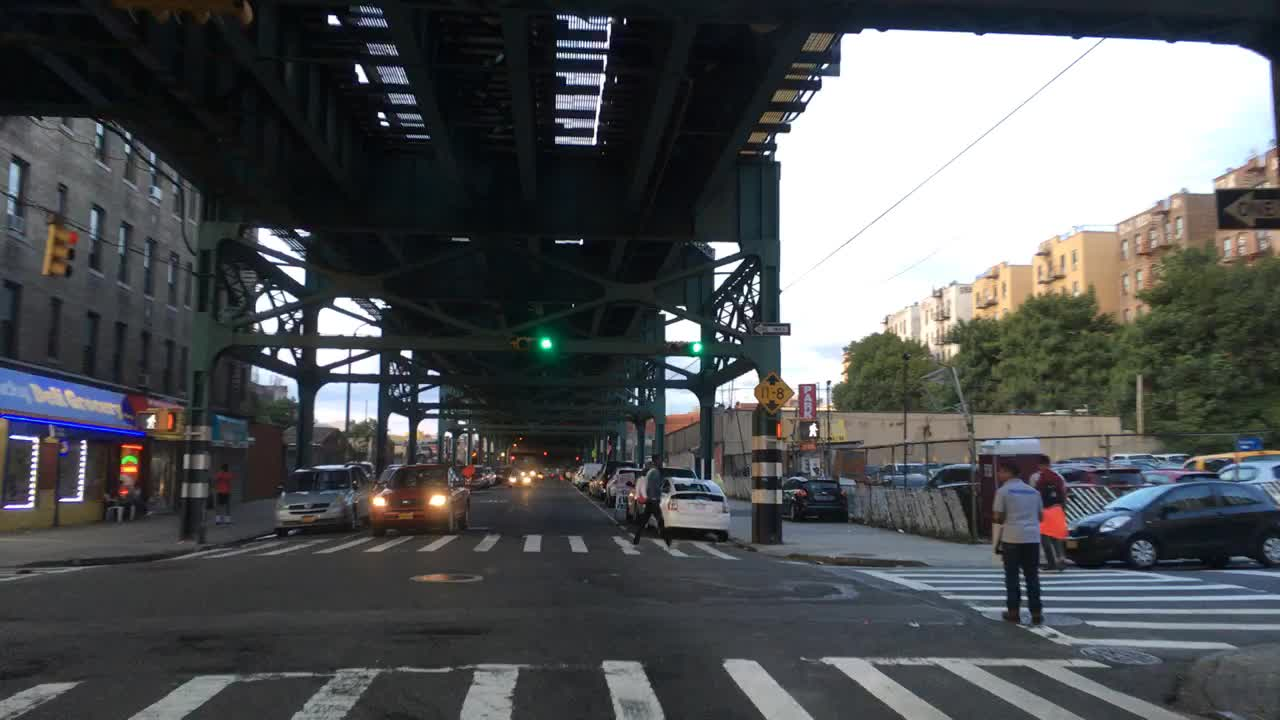car: (1070, 474, 1279, 570), (272, 457, 375, 538), (369, 462, 472, 535), (636, 478, 734, 542), (626, 466, 701, 522), (779, 472, 848, 523), (1053, 467, 1156, 499), (917, 461, 994, 497), (1220, 461, 1279, 505), (1178, 448, 1279, 473), (867, 461, 942, 491), (586, 460, 638, 497), (602, 466, 646, 506), (1143, 469, 1220, 489), (369, 462, 401, 506), (573, 462, 605, 489), (450, 462, 478, 492), (466, 460, 494, 488), (1107, 451, 1159, 461), (1154, 451, 1192, 464), (494, 463, 514, 481), (1057, 455, 1109, 461), (517, 465, 536, 481), (561, 465, 577, 479)
person: (987, 458, 1046, 627), (1027, 452, 1072, 571), (630, 452, 674, 550), (212, 459, 233, 527)
traffic light: (42, 221, 77, 277), (512, 334, 551, 350), (666, 340, 707, 355), (136, 408, 162, 431), (796, 418, 820, 441), (164, 409, 181, 434), (774, 418, 792, 439)
traffic sign: (1213, 187, 1279, 233), (751, 370, 795, 412), (751, 320, 790, 334)
